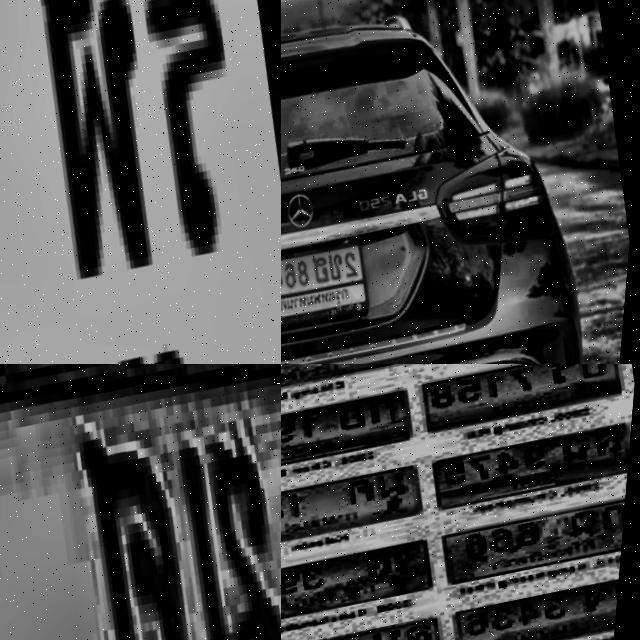license-plate: (0, 0, 281, 364), (0, 364, 281, 640), (429, 415, 638, 512), (439, 490, 633, 588), (281, 531, 449, 630), (418, 364, 635, 433), (281, 459, 437, 554), (281, 381, 428, 478), (454, 567, 627, 640), (281, 228, 379, 333), (281, 610, 459, 640), (281, 364, 413, 404)
